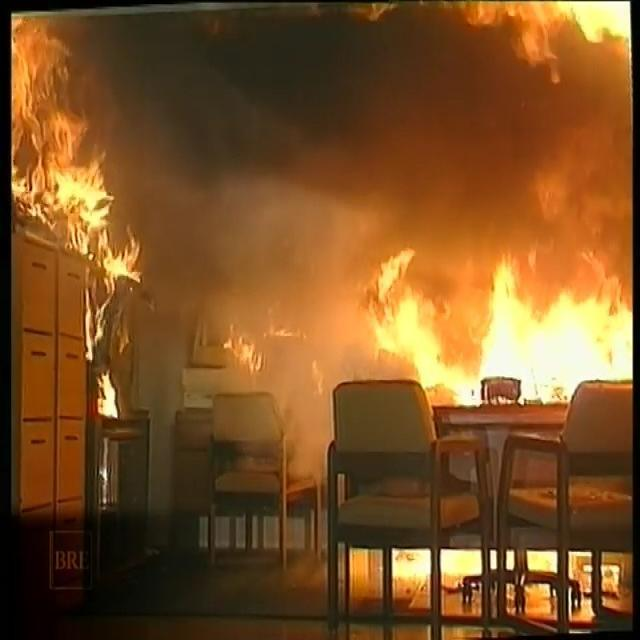Fire: (4, 6, 636, 398)
